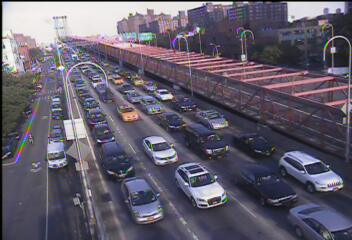neg: (169, 36, 191, 66), (66, 122, 88, 152), (97, 158, 118, 186), (307, 55, 328, 83), (70, 69, 90, 95), (275, 132, 295, 158), (160, 139, 179, 165), (130, 45, 149, 70), (26, 162, 45, 187), (23, 61, 42, 86), (55, 19, 73, 44), (283, 23, 301, 47), (214, 178, 231, 201), (242, 41, 258, 63), (238, 97, 254, 118), (91, 34, 104, 53)
